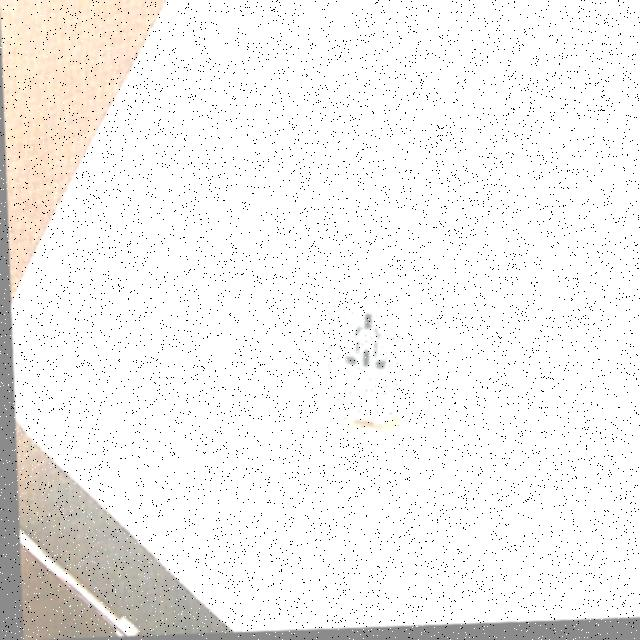adapter: (320, 300, 404, 431)
